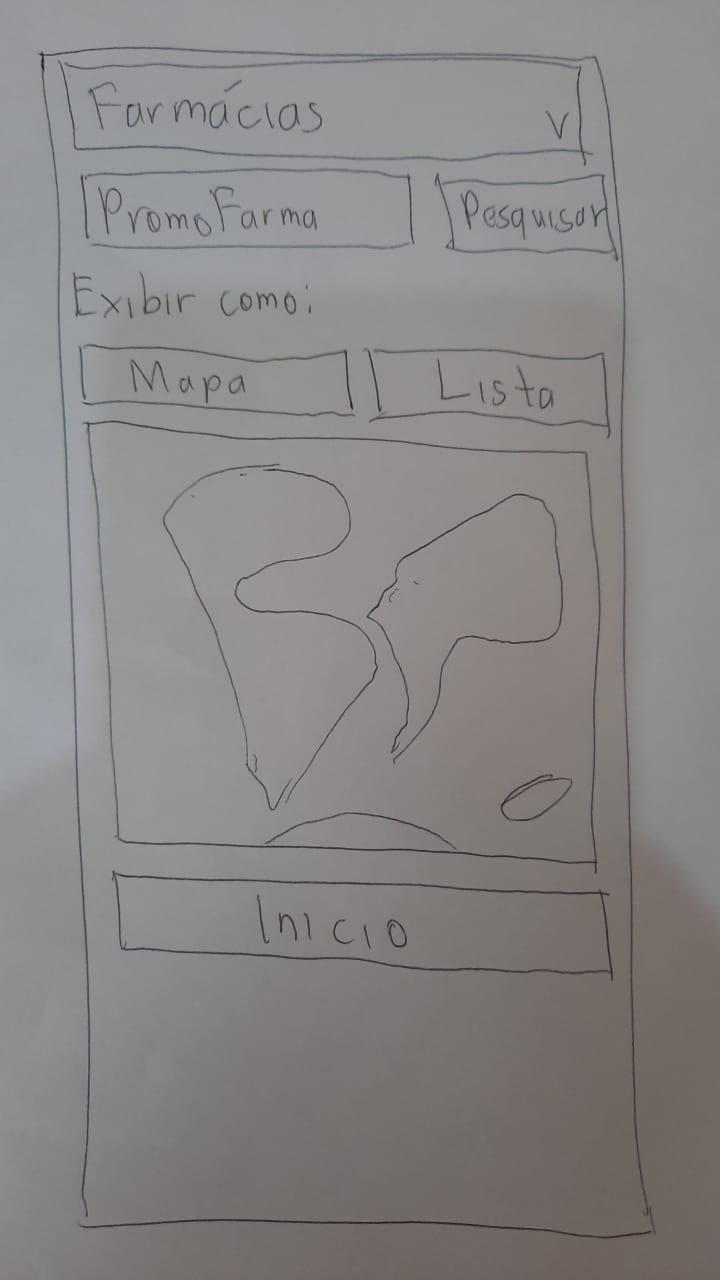Button: (112, 870, 613, 975), (365, 347, 609, 428), (79, 343, 353, 415), (435, 173, 616, 253)
Label: (73, 269, 313, 321)
ListPicker: (59, 56, 584, 160)
Map: (88, 419, 601, 863)
Screen: (41, 47, 653, 1239)
TextBox: (79, 169, 415, 248)
